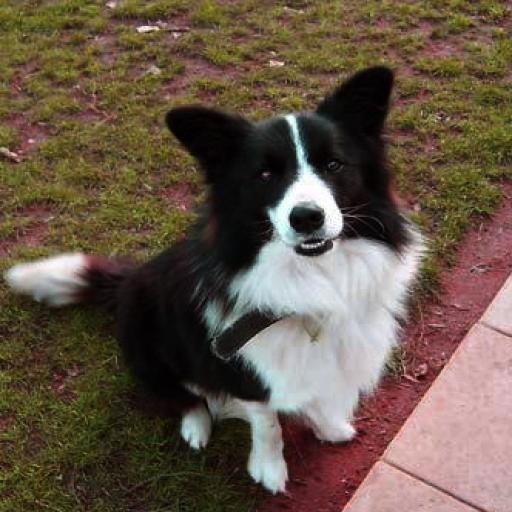dog_face: (170, 64, 396, 263)
